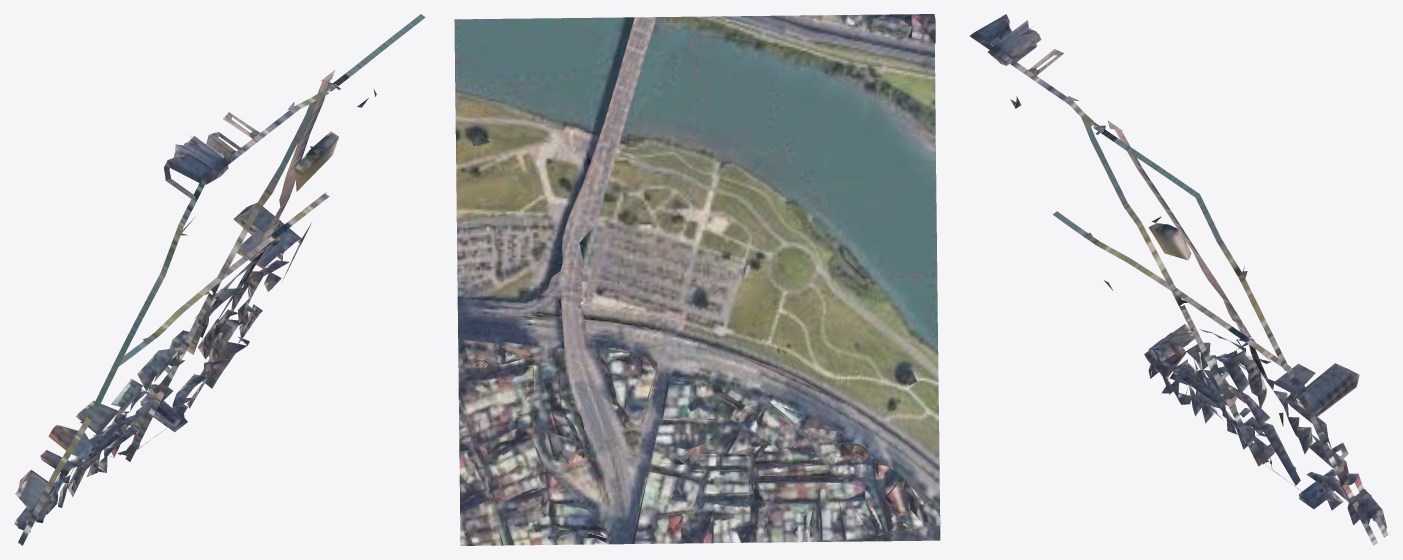
The picture shows the model from 3 angles, left to right: view 1: azimuth 30°, elevation 25°; view 2: azimuth 150°, elevation 25°; view 3: azimuth 270°, elevation 25°; orthographic projection. The views are drawn at different scales.
Size of the model in its own units: 617 by 580 by 529.
2 materials, 2 textured.
